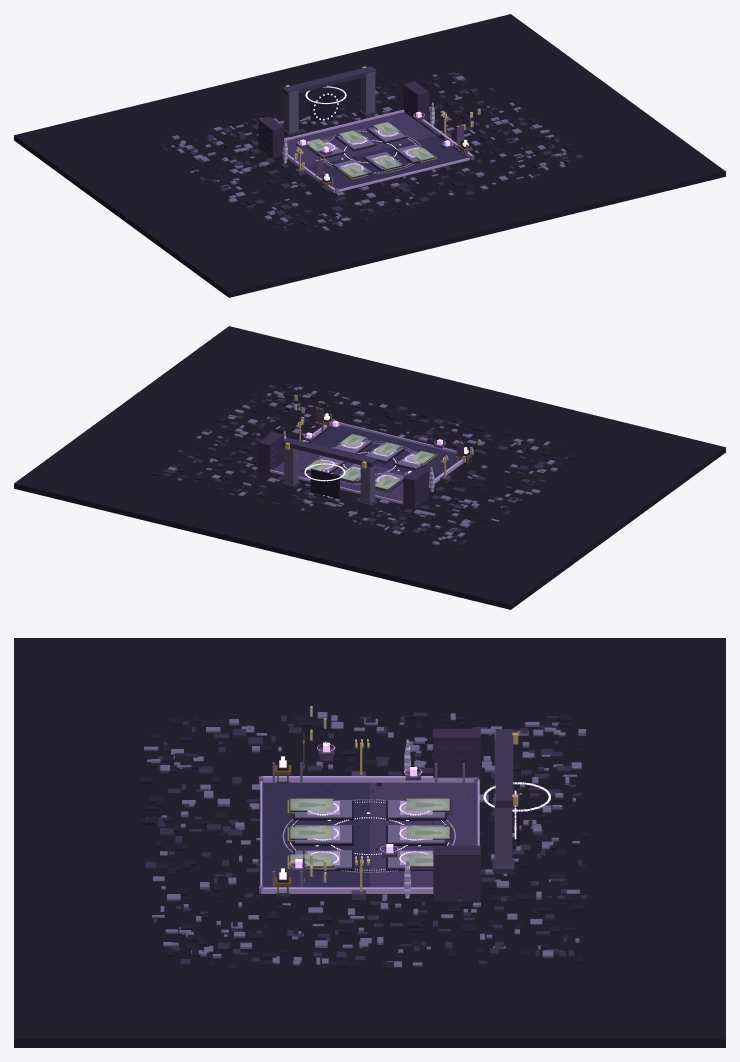
Rendered from arcane.glb.
The picture shows the model from 3 angles, top to bottom: view 1: azimuth 30°, elevation 25°; view 2: azimuth 150°, elevation 25°; view 3: azimuth 270°, elevation 25°; orthographic projection. The views are drawn at different scales.
Parts seen in each view (by area): view 1: Bedrock, Outer_Rubble, Enemy_Floor, Friendly_Floor, Arcane_Portal, Arcane_Shelves, Six_Grounded_Foundations, Arena_Curb, Portal_Void; view 2: Bedrock, Outer_Rubble, Arcane_Portal, Friendly_Floor, Arcane_Shelves, Six_Grounded_Foundations, Enemy_Floor, Arena_Curb, Portal_Void; view 3: Bedrock, Outer_Rubble, Friendly_Floor, Enemy_Floor, Arcane_Shelves, Six_Grounded_Foundations, Arcane_Portal, Arena_Curb.
Part boxes in pixels (x1=…): Bedrock: x1=14, y1=14, x2=725, y2=297; Outer_Rubble: x1=157, y1=67, x2=583, y2=233; Enemy_Floor: x1=284, y1=112, x2=436, y2=167; Friendly_Floor: x1=307, y1=136, x2=468, y2=192; Arcane_Portal: x1=282, y1=66, x2=377, y2=136; Arcane_Shelves: x1=258, y1=81, x2=428, y2=157; Six_Grounded_Foundations: x1=307, y1=127, x2=422, y2=179; Arena_Curb: x1=282, y1=109, x2=472, y2=192; Portal_Void: x1=310, y1=91, x2=339, y2=121; Bedrock: x1=14, y1=326, x2=725, y2=609; Outer_Rubble: x1=151, y1=383, x2=576, y2=546; Arcane_Portal: x1=282, y1=437, x2=377, y2=507; Friendly_Floor: x1=310, y1=425, x2=459, y2=478; Arcane_Shelves: x1=258, y1=432, x2=428, y2=508; Six_Grounded_Foundations: x1=317, y1=439, x2=435, y2=491; Enemy_Floor: x1=271, y1=450, x2=429, y2=504; Arena_Curb: x1=270, y1=422, x2=471, y2=504; Portal_Void: x1=310, y1=469, x2=339, y2=498; Bedrock: x1=14, y1=638, x2=725, y2=1047; Outer_Rubble: x1=139, y1=712, x2=587, y2=968; Friendly_Floor: x1=262, y1=782, x2=369, y2=887; Enemy_Floor: x1=370, y1=782, x2=477, y2=887; Arcane_Shelves: x1=433, y1=728, x2=480, y2=901; Six_Grounded_Foundations: x1=293, y1=800, x2=446, y2=870; Arcane_Portal: x1=492, y1=729, x2=518, y2=873; Arena_Curb: x1=260, y1=776, x2=479, y2=893.
Size of the model in its own units: 48 by 4.6 by 36.
Materials: 34 (1 with a texture image).
